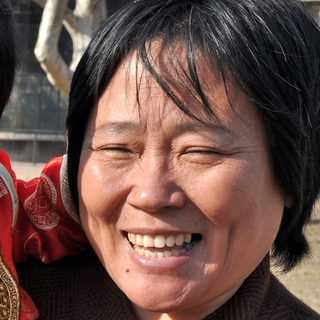eye: (87, 136, 143, 164), (176, 141, 232, 164)
